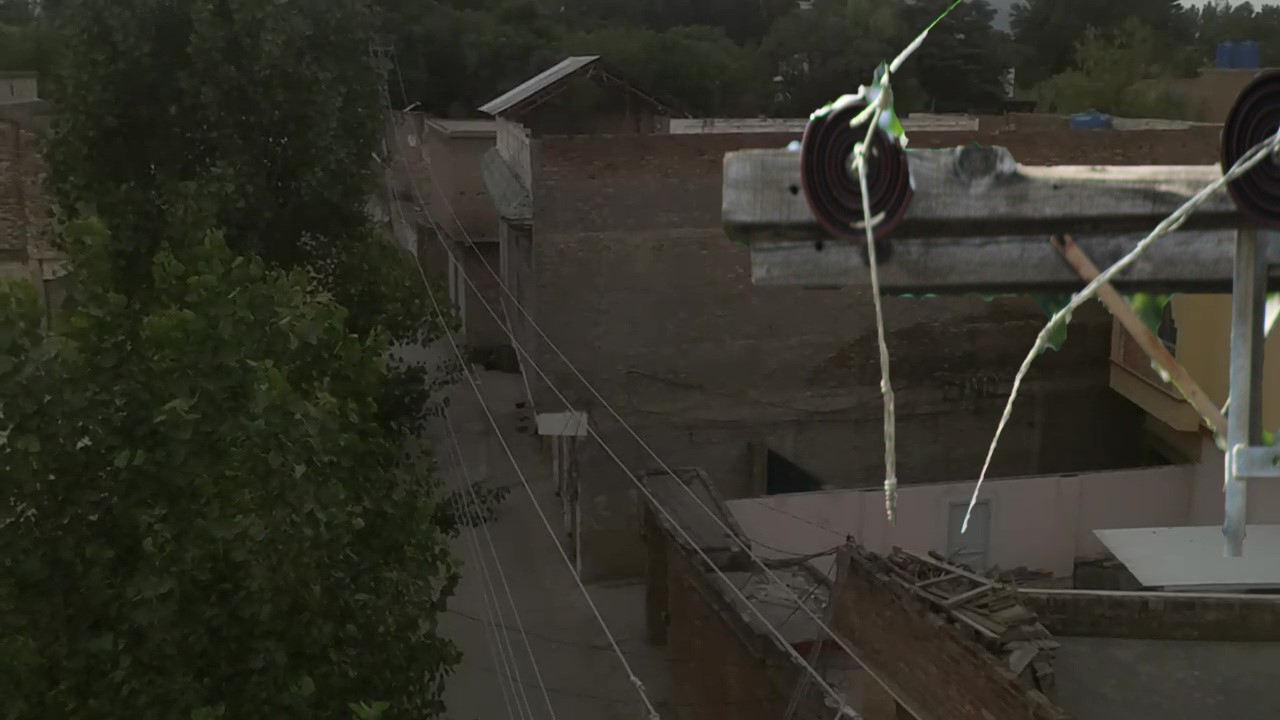defect_disc: (796, 85, 923, 240)
